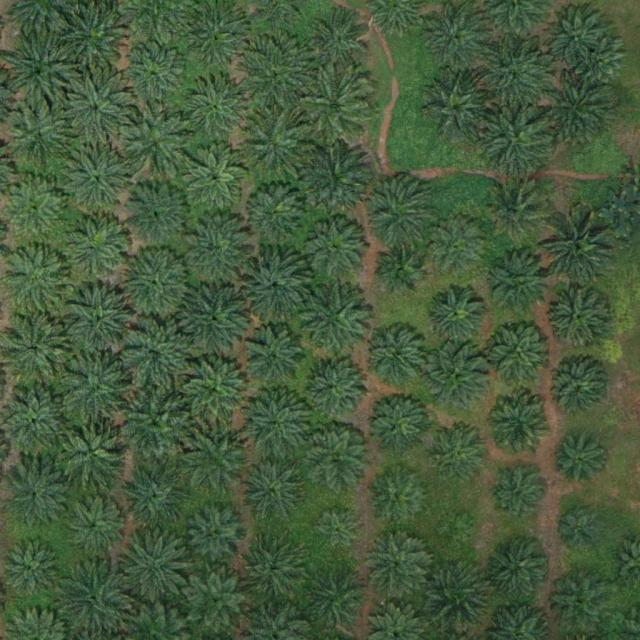Healthy: (2, 246, 73, 317), (55, 2, 126, 73), (120, 179, 191, 250), (181, 357, 252, 428), (60, 561, 131, 632), (6, 102, 76, 173), (62, 146, 132, 217), (65, 286, 135, 357), (120, 41, 190, 112), (122, 108, 193, 178), (120, 250, 190, 321), (121, 320, 191, 391), (182, 71, 252, 142), (241, 41, 311, 112), (239, 108, 309, 179), (240, 246, 310, 317), (299, 71, 369, 142), (302, 141, 372, 212), (300, 213, 370, 284), (364, 180, 434, 251), (479, 42, 550, 112), (486, 251, 556, 322), (484, 318, 554, 389), (543, 80, 613, 151), (483, 536, 553, 607), (420, 342, 490, 413), (422, 559, 492, 630), (243, 391, 313, 462), (122, 389, 192, 460), (119, 459, 189, 530), (121, 529, 191, 600), (57, 419, 128, 489), (2, 463, 72, 534), (545, 215, 615, 285), (4, 39, 74, 109), (61, 77, 131, 147), (185, 213, 255, 283), (180, 282, 250, 352), (301, 287, 371, 357), (422, 74, 492, 144), (482, 107, 552, 177), (182, 427, 252, 497), (63, 357, 133, 427), (65, 216, 128, 279), (184, 145, 247, 208), (244, 180, 307, 243), (424, 285, 487, 348), (547, 286, 610, 349), (430, 423, 493, 486), (369, 466, 432, 529), (364, 533, 427, 596), (304, 357, 367, 420), (242, 458, 305, 521), (240, 541, 303, 604), (489, 183, 551, 246), (426, 9, 488, 72), (3, 178, 65, 241), (244, 327, 306, 390), (306, 12, 368, 75), (362, 326, 425, 388), (426, 215, 488, 278), (549, 357, 611, 420), (549, 571, 611, 634), (367, 391, 429, 454), (305, 427, 367, 490), (306, 568, 368, 631), (186, 506, 248, 569), (186, 570, 248, 633), (64, 494, 126, 557), (487, 395, 549, 457), (548, 11, 603, 66), (570, 36, 625, 91), (552, 435, 607, 490), (490, 468, 545, 523), (377, 244, 424, 292)
Small: (313, 509, 360, 556), (560, 510, 599, 549), (436, 512, 475, 551)
